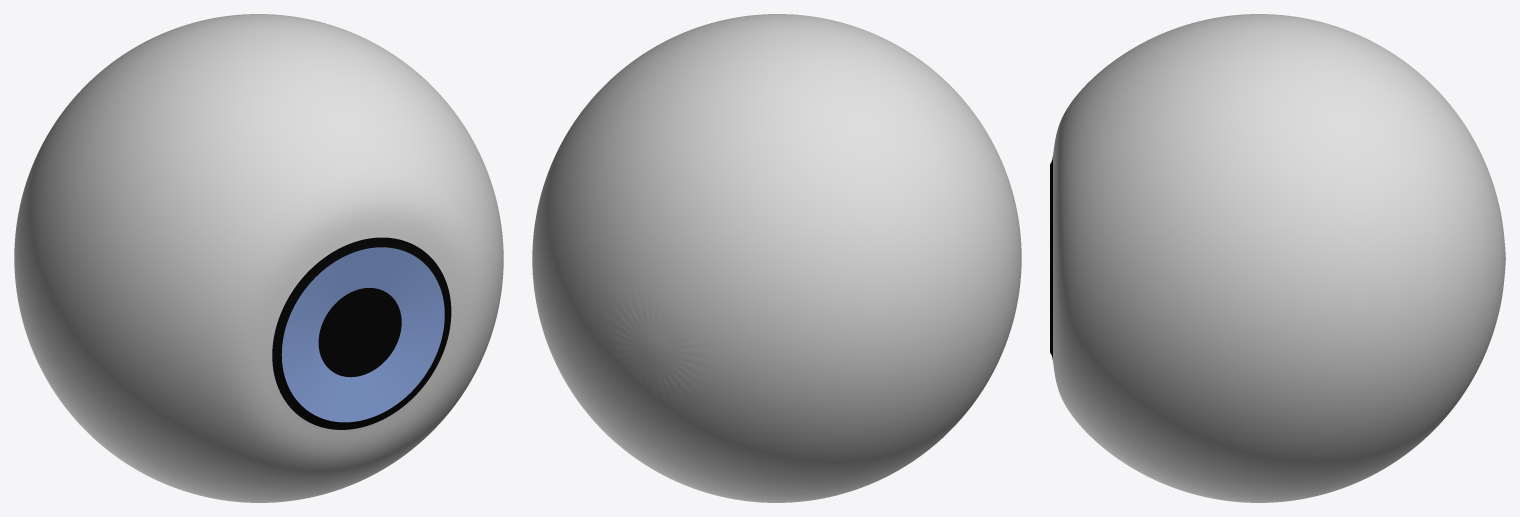
File: トリック目.fbx
3 views of the same model, side by side, from view 1: azimuth 30°, elevation 25°; view 2: azimuth 150°, elevation 25°; view 3: azimuth 270°, elevation 25° (orthographic).
Parts seen in each view (by area): view 1: 超眼球, 超虹彩, 超瞳孔; view 2: 超眼球; view 3: 超眼球.
Part boxes in pixels (x1,y1,x2,y2): 超眼球: (14,14,503,502); 超虹彩: (281,247,444,422); 超瞳孔: (318,288,401,377); 超眼球: (532,14,1021,502); 超眼球: (1050,14,1505,502).
Bounding box in the file's own units: 1.97 × 1.97 × 1.84.
